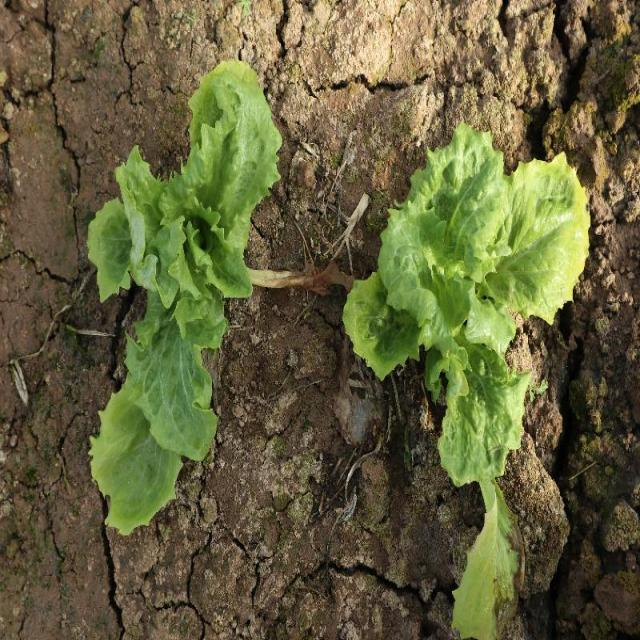crop: (86, 61, 282, 540)
